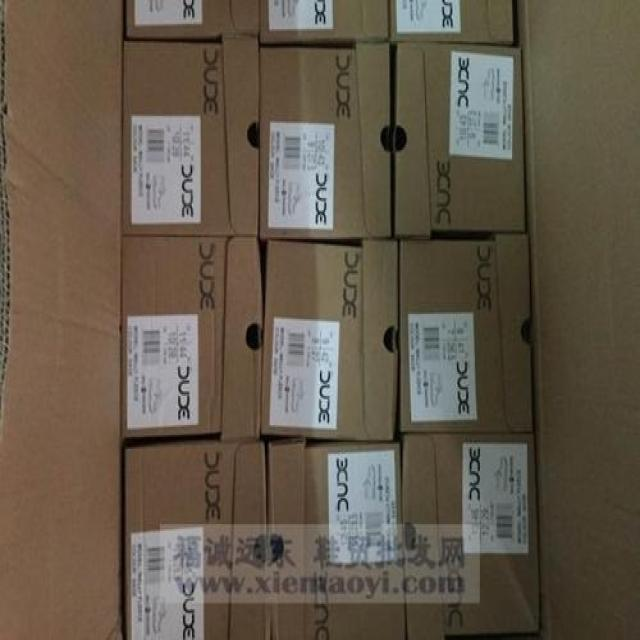box: (399, 433, 541, 640), (125, 440, 271, 640), (122, 236, 262, 442), (122, 29, 260, 236), (266, 439, 408, 640), (260, 241, 399, 442), (397, 234, 532, 435), (392, 41, 525, 236), (260, 43, 392, 239), (260, 0, 390, 48), (388, 2, 515, 44), (125, 0, 260, 38)
